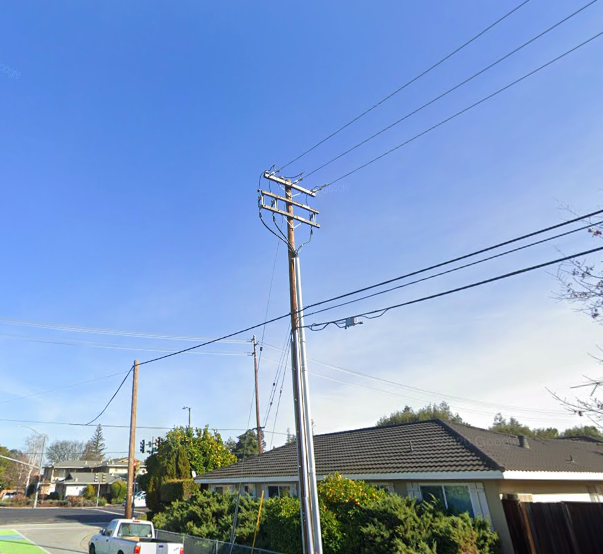utility_pole: (251, 160, 327, 251)
